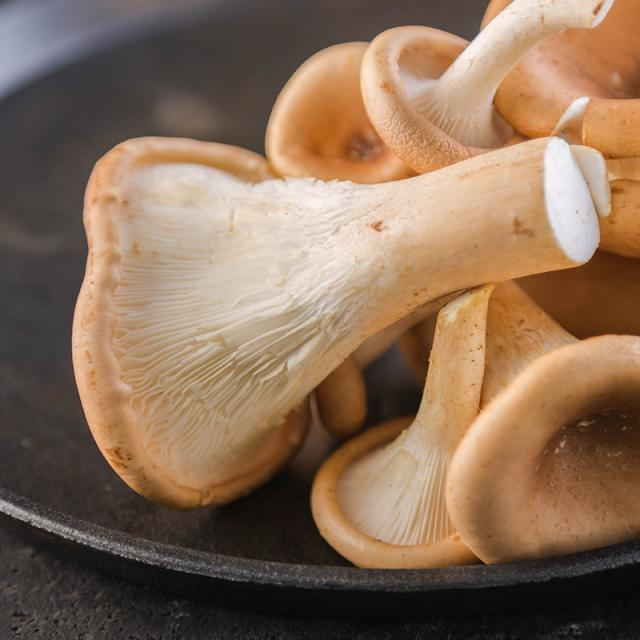Clitocybe maxima: (78, 130, 598, 493), (419, 264, 640, 562), (269, 4, 640, 167), (318, 293, 498, 561)
